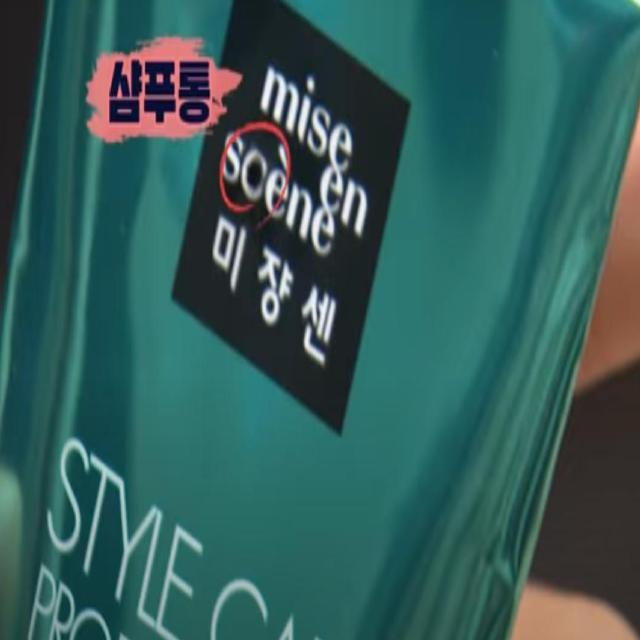hidden camera: (243, 140, 268, 198)
